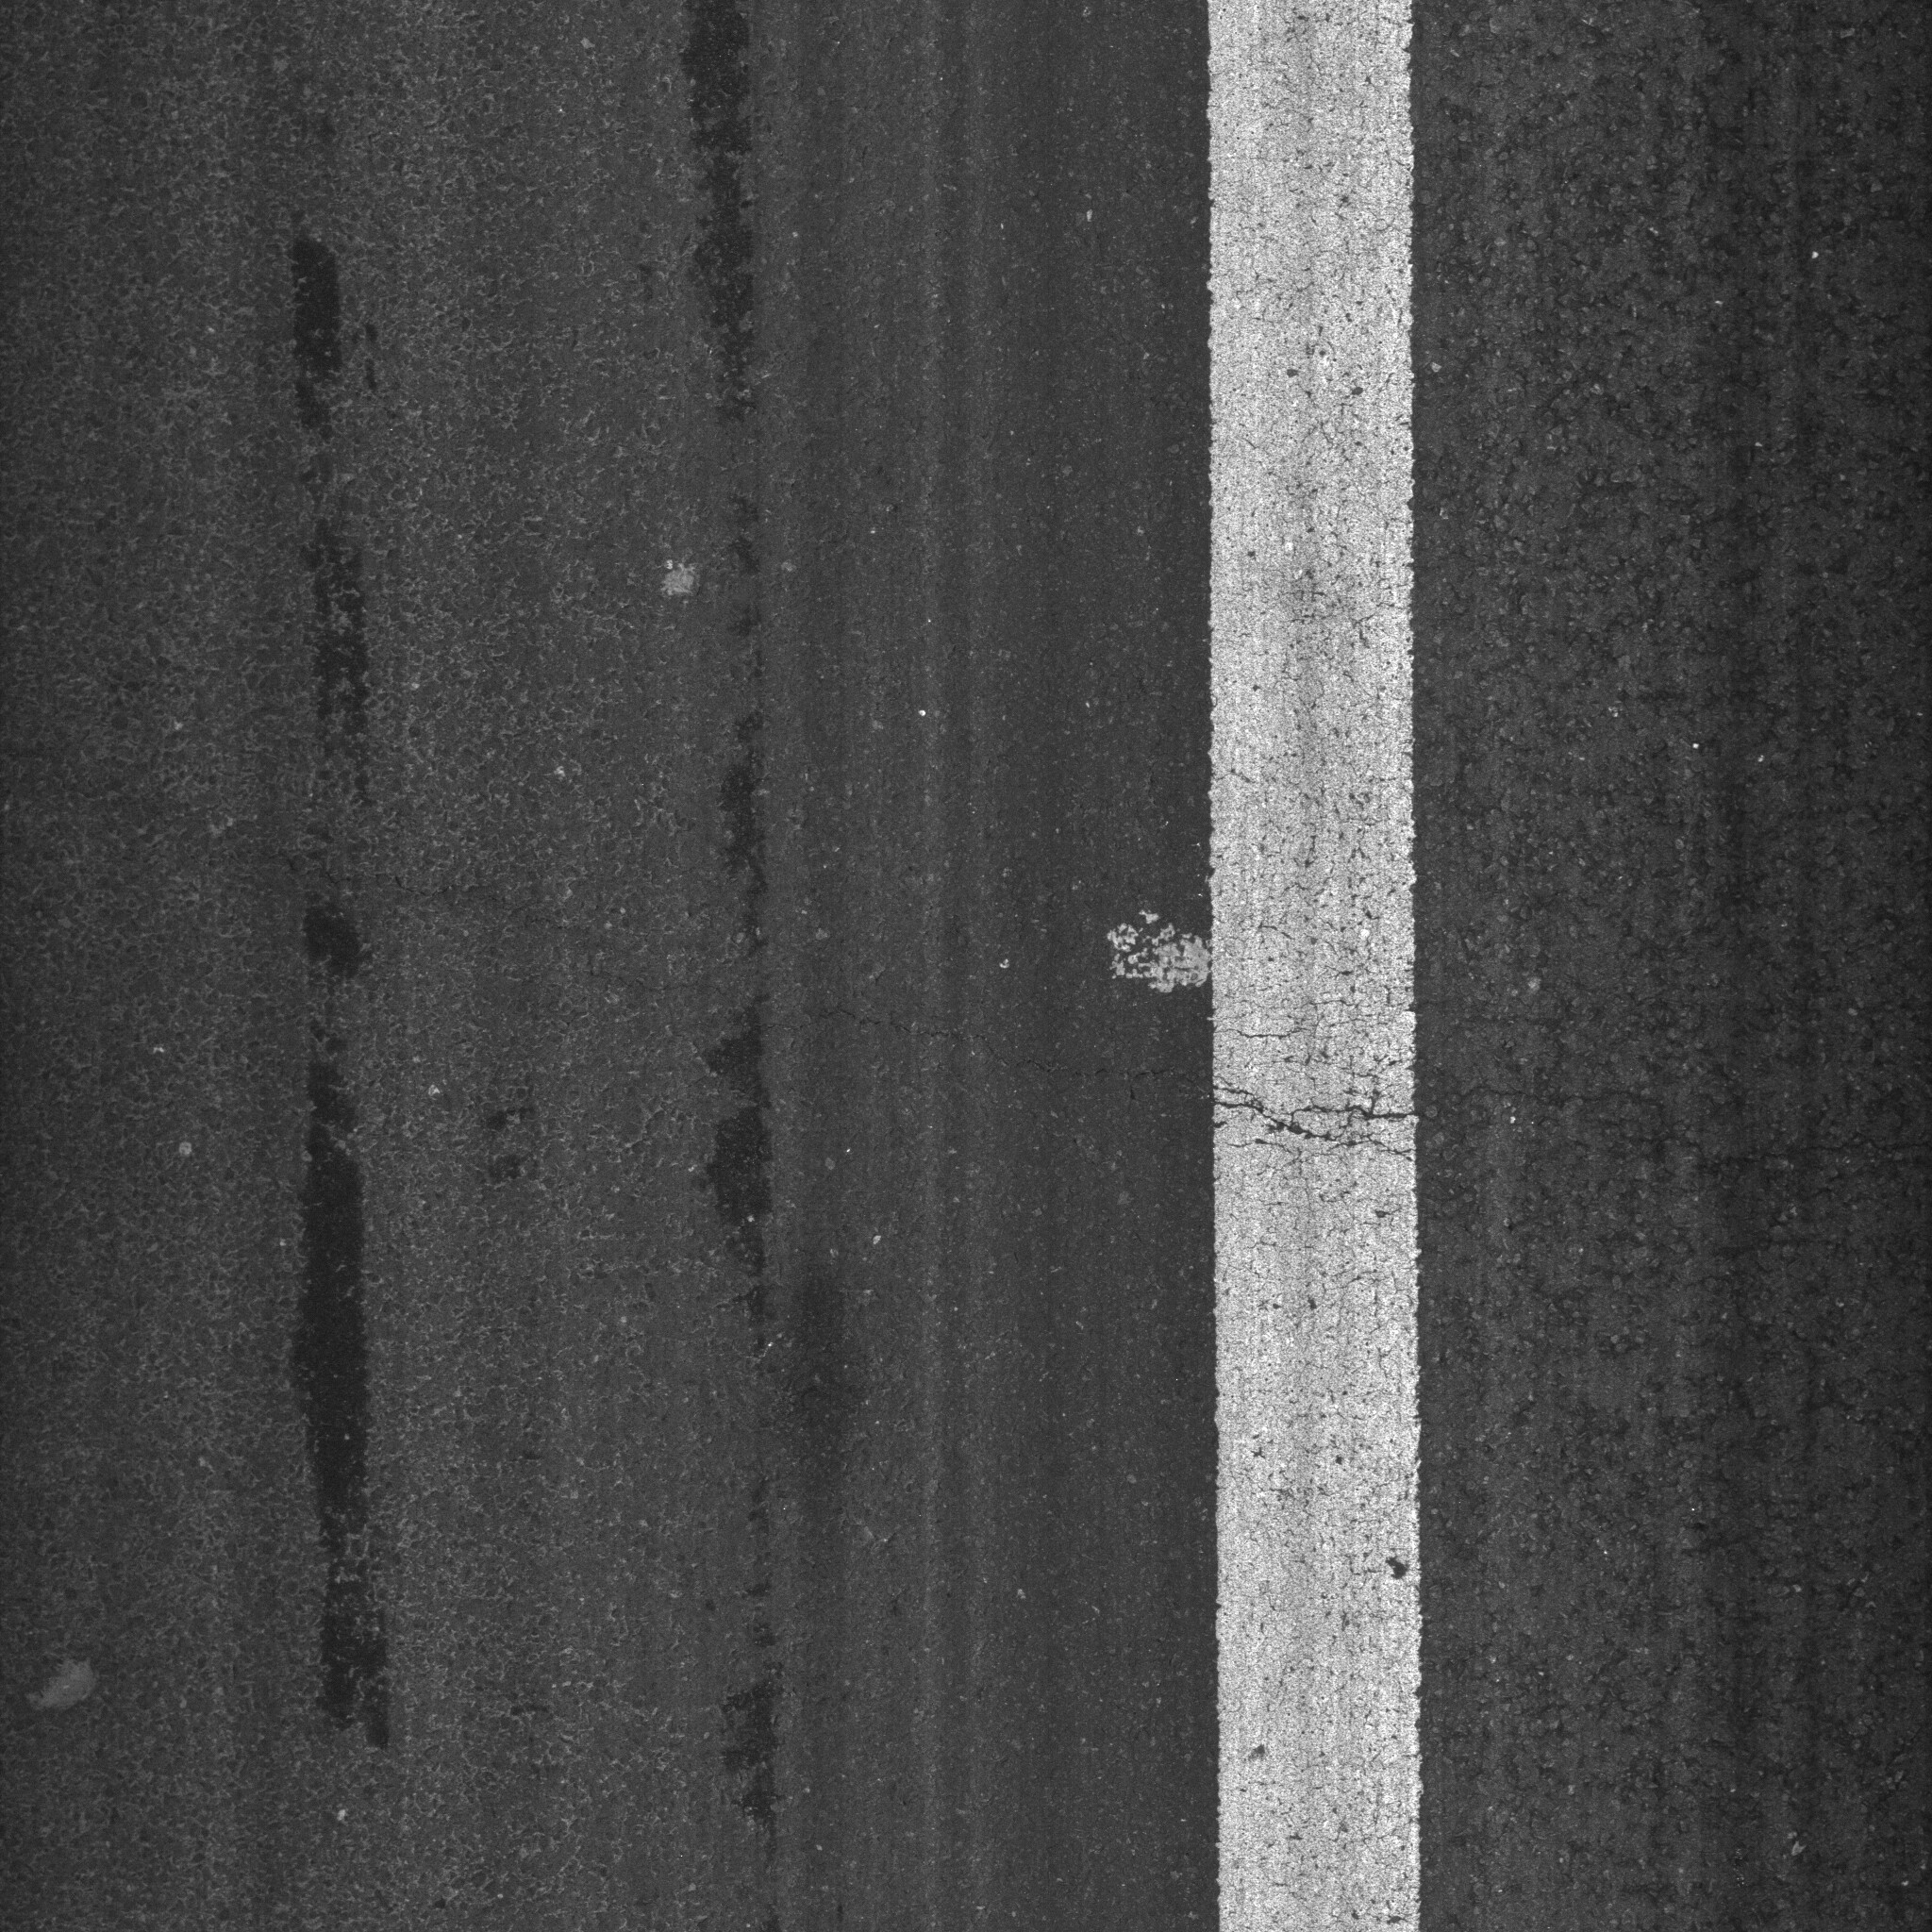transeverse: (1187, 1063, 1932, 1212)
